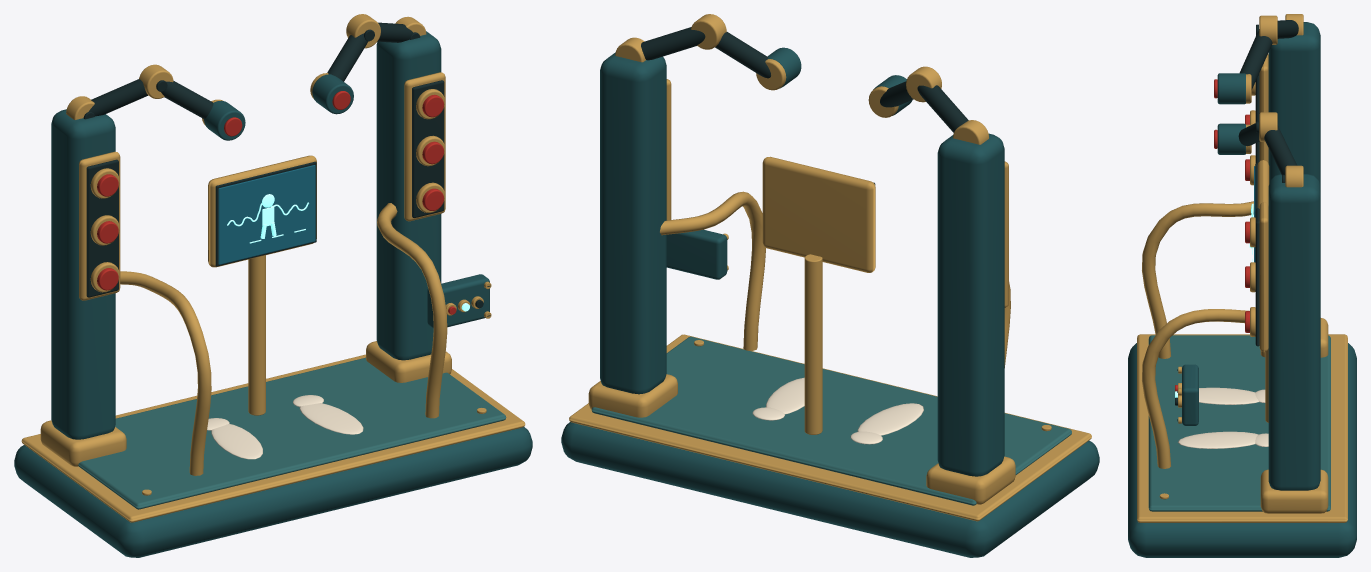
File: motion.glb
3 views of the same model, side by side, from view 1: azimuth 30°, elevation 25°; view 2: azimuth 150°, elevation 25°; view 3: azimuth 270°, elevation 25° (orthographic). The views are drawn at different scales.
Parts seen in each view (by area): view 1: teal.003, brass.003, cushion.003, dark.003, display.003, red.003, paper.003, signal.003; view 2: teal.003, brass.003, cushion.003, dark.003, paper.003; view 3: teal.003, brass.003, cushion.003, dark.003, paper.003, red.003.
Boxes of the visible parts, box(x1,y1,x2,y2) form: teal.003: box(14, 31, 532, 557); brass.003: box(21, 14, 525, 522); cushion.003: box(78, 357, 506, 509); dark.003: box(83, 22, 490, 316); display.003: box(218, 165, 315, 264); red.003: box(97, 91, 456, 314); paper.003: box(207, 395, 363, 459); signal.003: box(227, 194, 469, 311); teal.003: box(561, 47, 1099, 557); brass.003: box(569, 14, 1091, 521); cushion.003: box(591, 336, 1071, 505); dark.003: box(641, 27, 968, 184); paper.003: box(752, 377, 923, 444); teal.003: box(1128, 22, 1356, 557); brass.003: box(1137, 14, 1347, 522); cushion.003: box(1148, 335, 1330, 511); dark.003: box(1175, 20, 1298, 421); paper.003: box(1178, 387, 1268, 448); red.003: box(1175, 79, 1249, 391).
Bounding box in the file's own units: 1.75 × 1.71 × 0.88.
